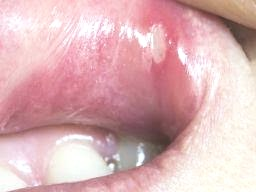Ulcer: (146, 19, 174, 65)
